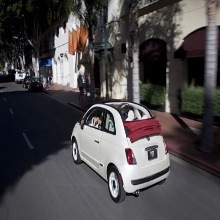no damage: (69, 101, 172, 203)
